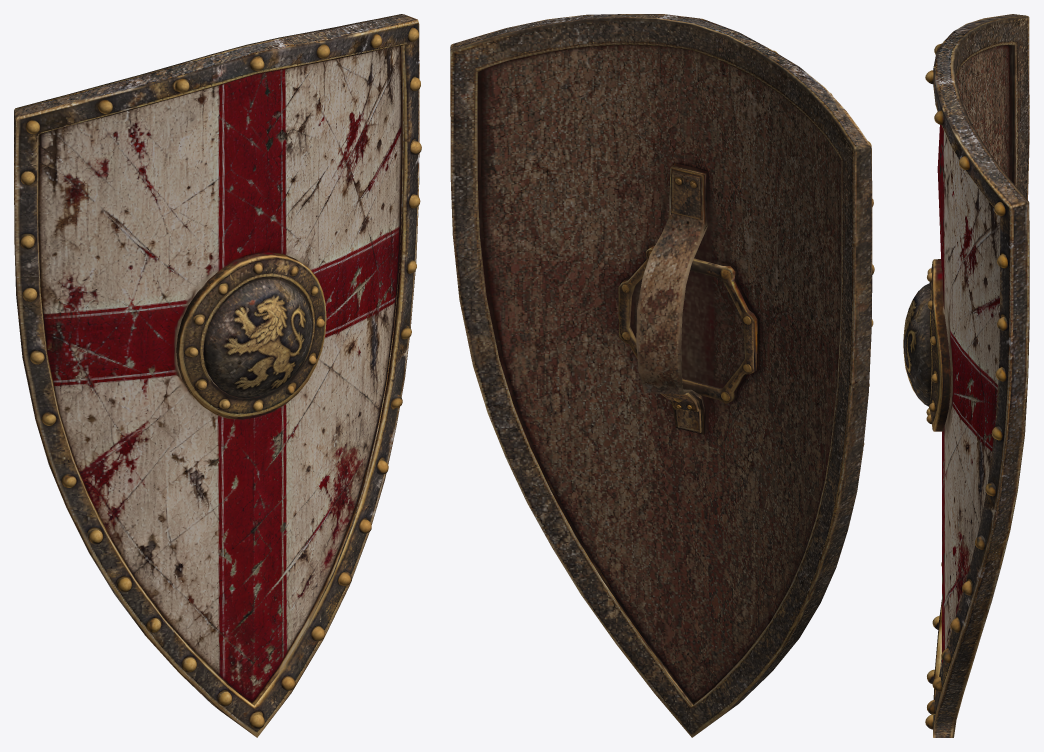
Rendered from medieval+shield+3d+model.fbx.
3 views of the same model, side by side, from view 1: azimuth 30°, elevation 25°; view 2: azimuth 150°, elevation 25°; view 3: azimuth 270°, elevation 25° (orthographic). The views are drawn at different scales.
Parts seen in each view (by area): view 1: tripo_2fee3b4e_5685_479c_991f_f392acba2128; view 2: tripo_2fee3b4e_5685_479c_991f_f392acba2128; view 3: tripo_2fee3b4e_5685_479c_991f_f392acba2128.
Part boxes in pixels (bbox=[...]): tripo_2fee3b4e_5685_479c_991f_f392acba2128: bbox=[14, 14, 421, 737]; tripo_2fee3b4e_5685_479c_991f_f392acba2128: bbox=[450, 14, 874, 737]; tripo_2fee3b4e_5685_479c_991f_f392acba2128: bbox=[903, 14, 1029, 737].
Bounding box in the file's own units: 0.6187 × 0.9995 × 0.1704.
1 material, 1 textured.
